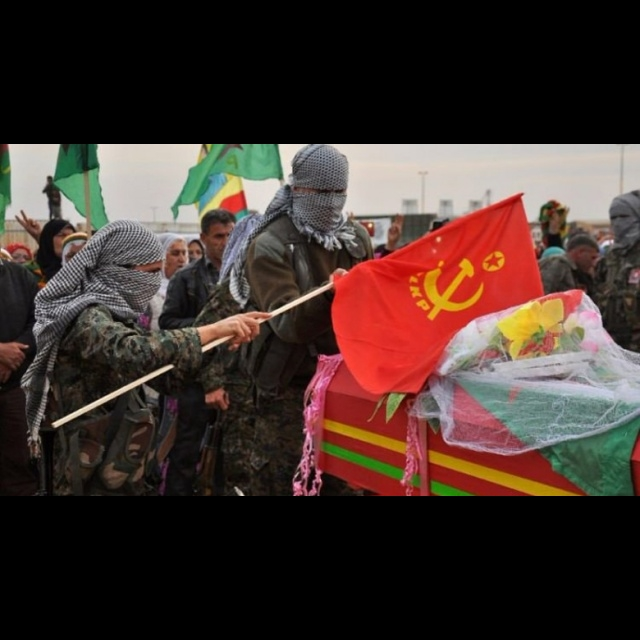MLKP: (406, 238, 511, 329)
